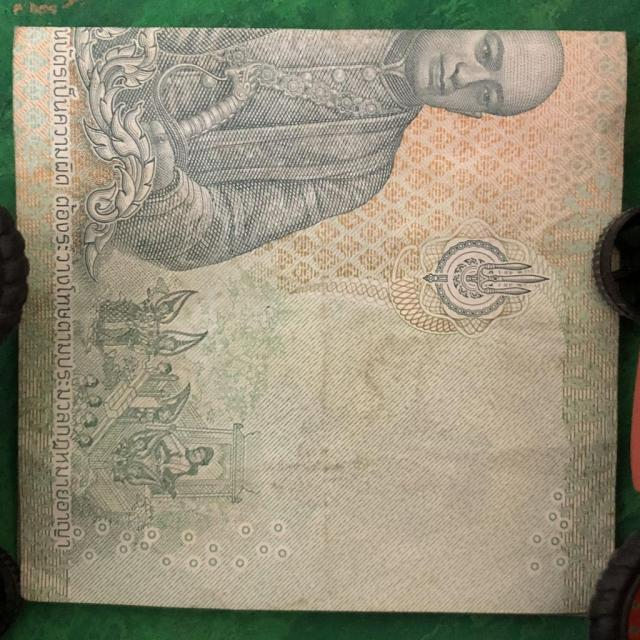THAI20: (14, 27, 626, 614)
